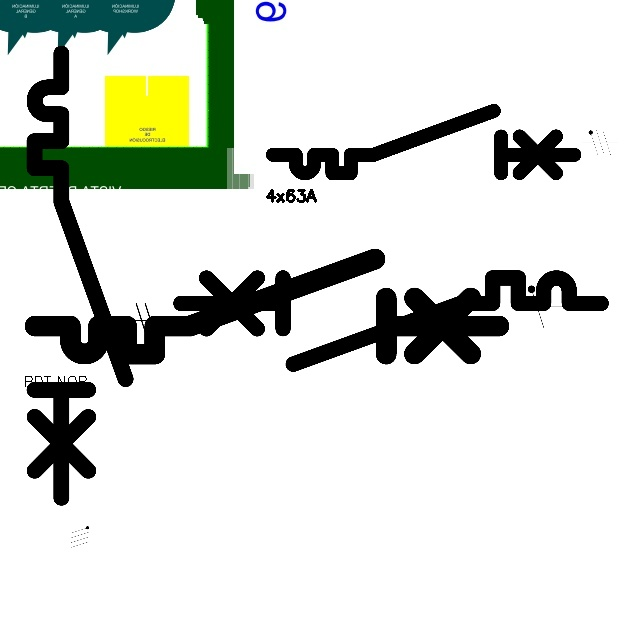interruptor_termomagnetico: (23, 247, 511, 366), (23, 42, 137, 509), (169, 267, 611, 375), (265, 103, 582, 181)
